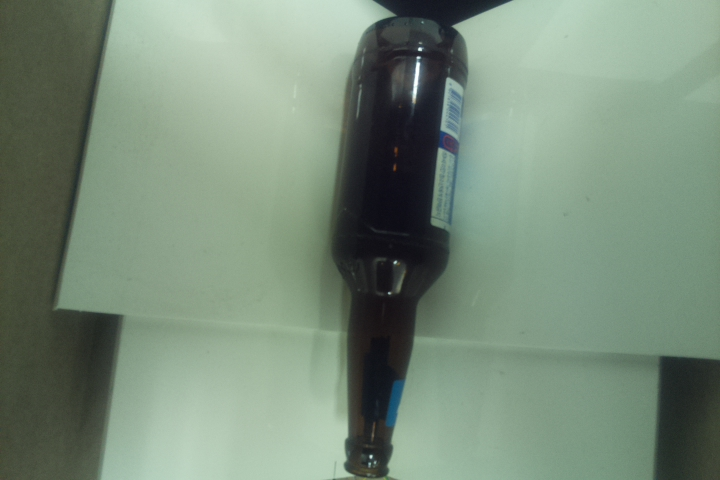makju: (323, 13, 468, 479)
